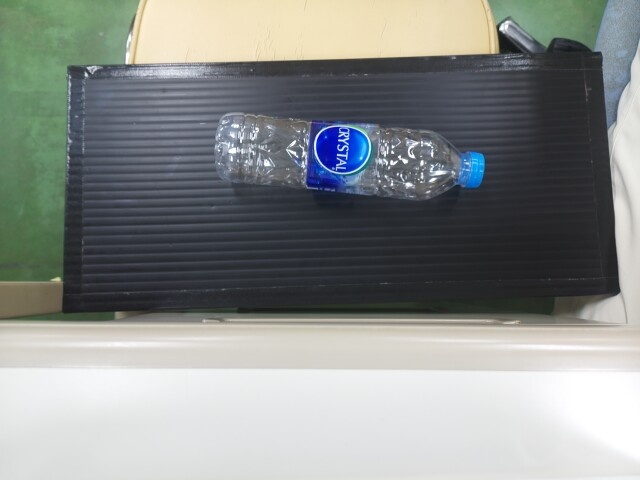plastic_bottle: (217, 113, 484, 199)
